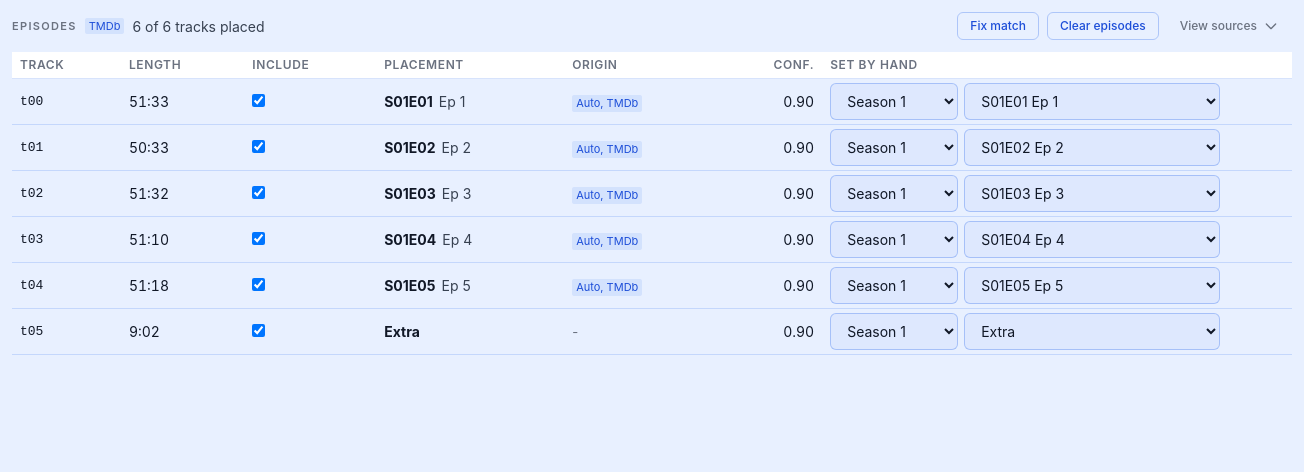
Test: EpisodeMatchPanel actions › previews then applies
The image size is (1304, 472).
Click the button "Fix match". click: (998, 26)
box: [957, 12, 1039, 40]
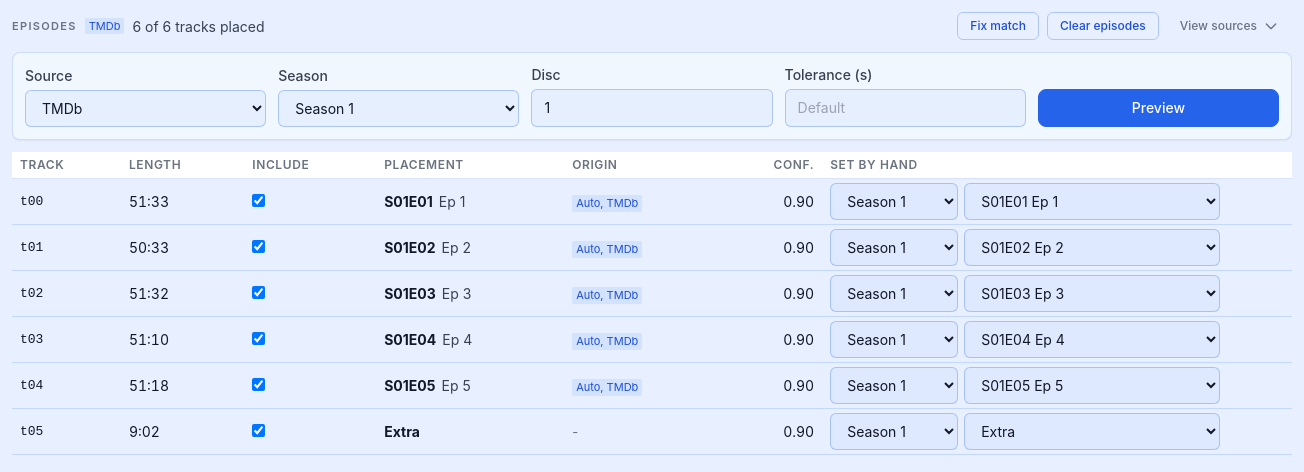
Select "TVmaze" in the dropdown labelled "Source". click: (146, 108)
box: [25, 90, 266, 127]
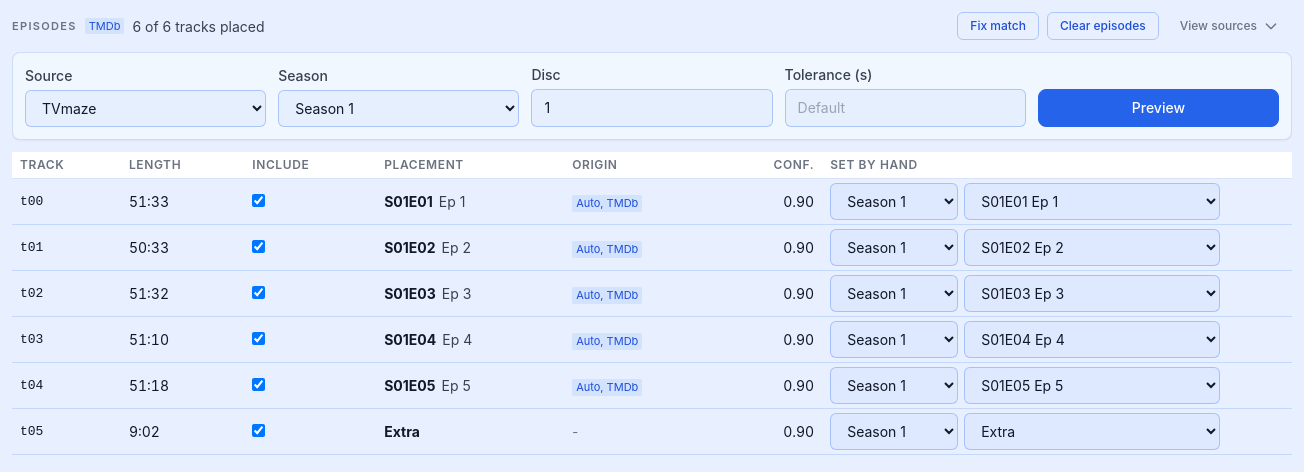
Click the button "Preview". click: (1158, 108)
box: [1038, 89, 1279, 127]
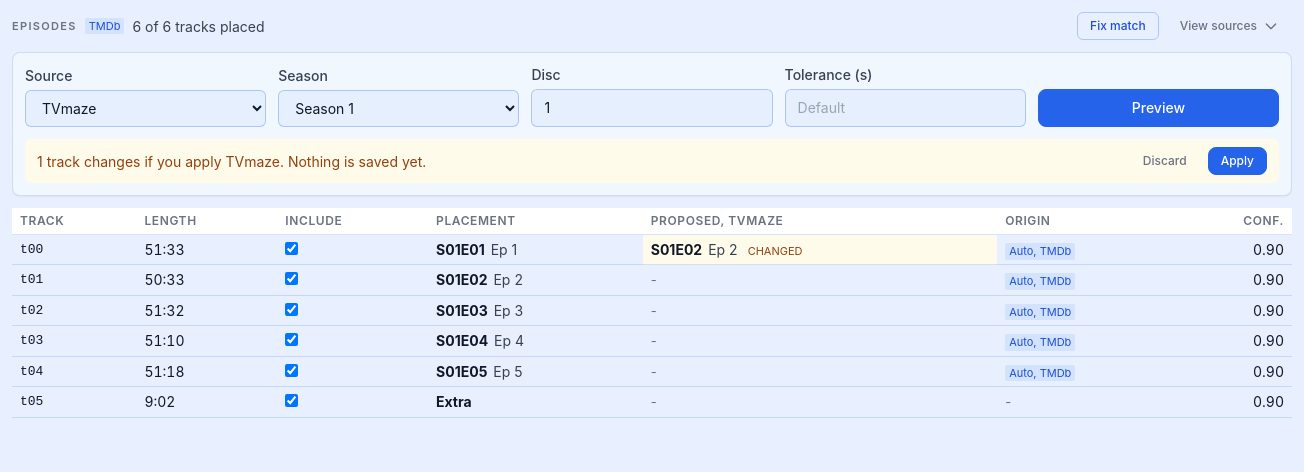
Check: the text "1 track changes if you apply TVmaze. Nothing is saved yet." is shown, box [37, 150, 426, 172]
Check: the text "Nothing is saved yet." is shown, box [37, 152, 426, 170]
Check: the column heading "Proposed, TVmaze" is shown, box [643, 208, 997, 234]
Click the button "Apply". click: (1237, 161)
box: [1208, 147, 1267, 175]
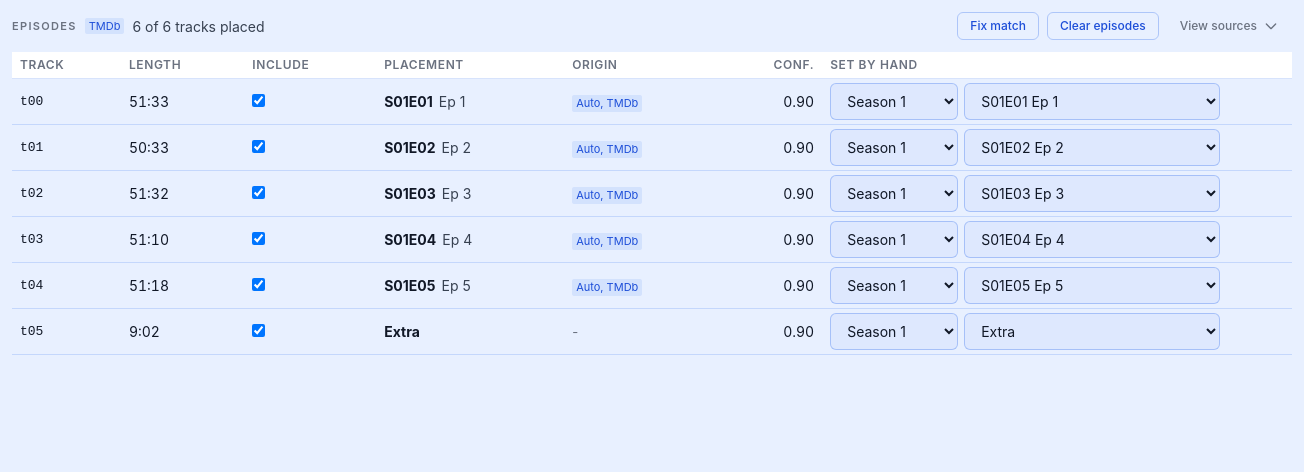
Check: the text "1 track changes if you apply TVmaze. Nothing is saved yet." is gone
